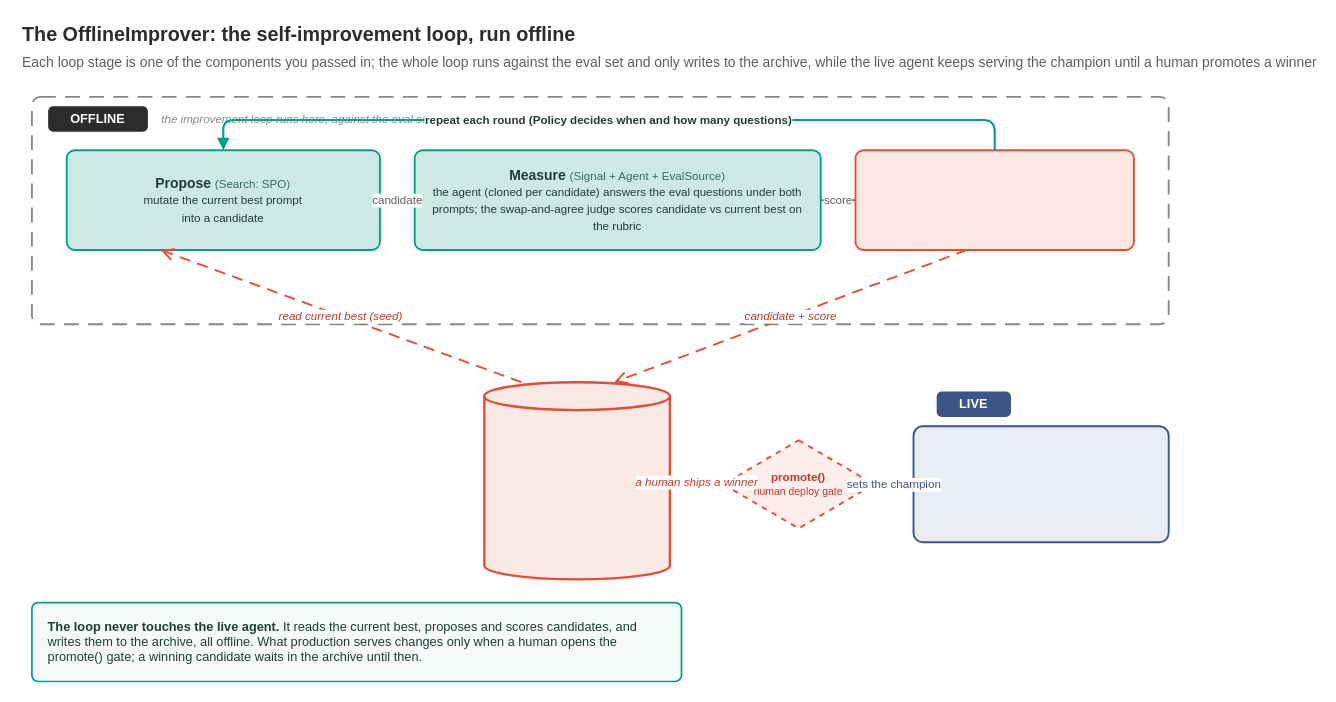
Image size: 1336x702. Some labels were removed from this diagram. The shapes that lost their labels are listed below. From the top down, each one's centre as x and y in pixels, then its label:
At point 994,199: "Record (Archive) write the candidate and its score; no promotion".
At point 576,480: "SQLiteArchive every version + score".
At point 1040,484: "Live agent (production) serves the live champion on every request".
